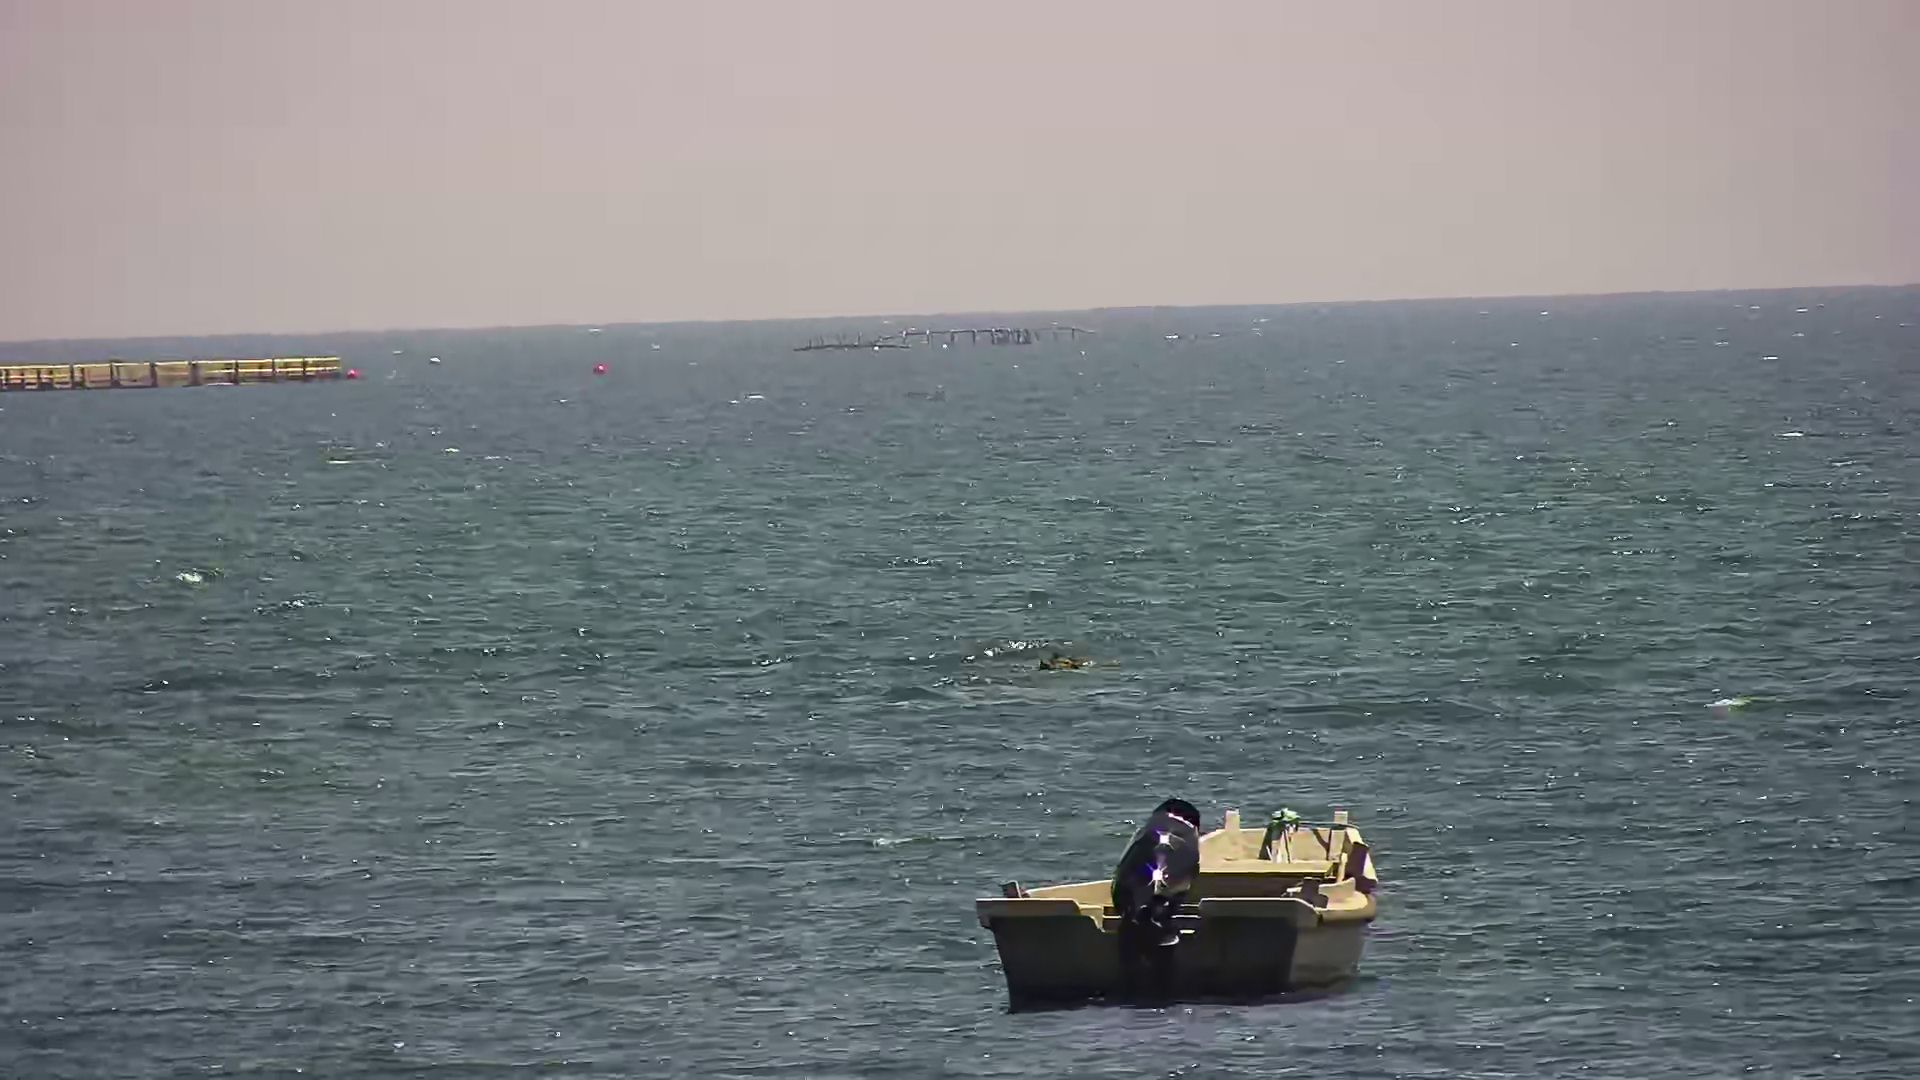boat: (955, 767, 1402, 1026)
platform: (773, 319, 1176, 365), (3, 356, 361, 388)
rubbish: (1023, 636, 1113, 684), (578, 353, 630, 388)
